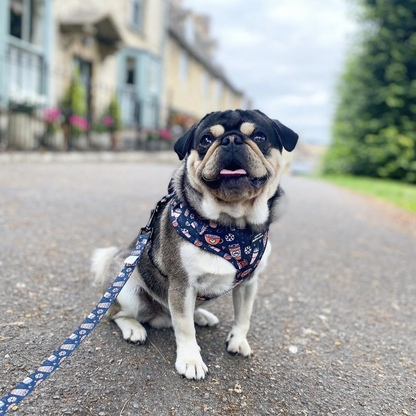Pug: (87, 107, 302, 384)
